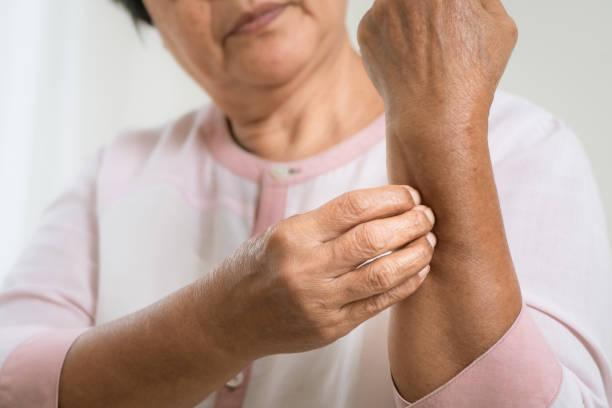Dry-Skin: (393, 5, 488, 209)
